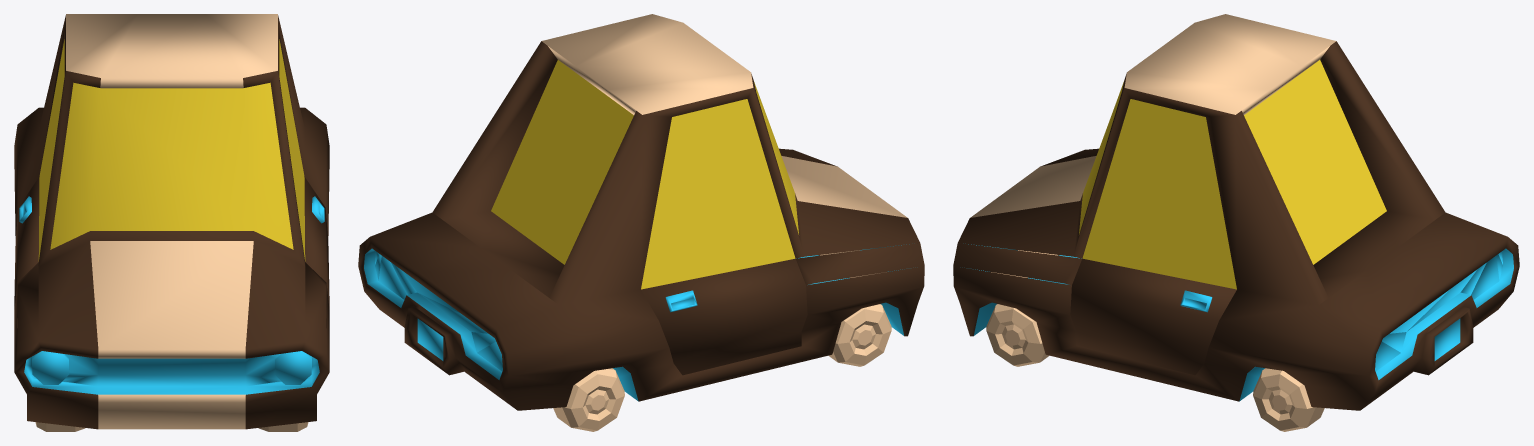
File: Toy220.fbx
3 renders of one model, left to right at view 1: azimuth 30°, elevation 25°; view 2: azimuth 150°, elevation 25°; view 3: azimuth 270°, elevation 25°, orthographic. The views are drawn at different scales.
Parts seen in each view (by area): view 1: Toy220; view 2: Toy220; view 3: Toy220.
Part boxes in pixels (box(x1,y1,x2,y2)): Toy220: box(14, 14, 329, 431); Toy220: box(358, 14, 924, 431); Toy220: box(953, 14, 1519, 431).
Size of the model in its own units: 0.1949 by 0.1271 by 0.2206.
